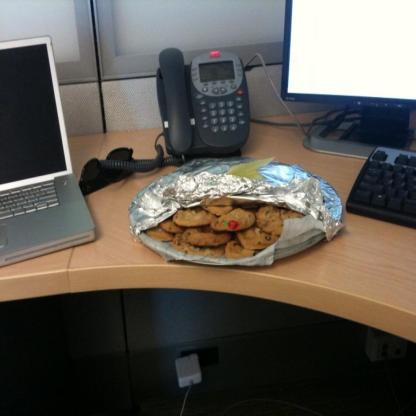board: (3, 27, 94, 270)
